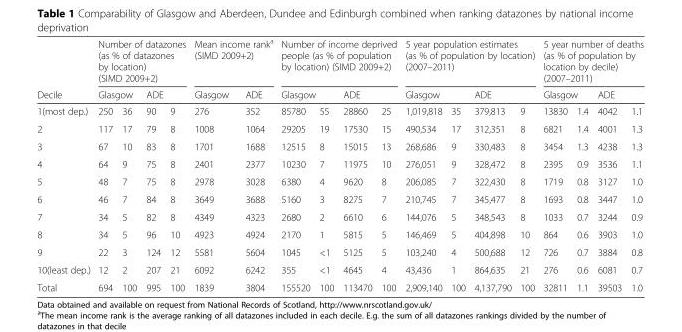table: (36, 36, 642, 292)
table column: (36, 36, 93, 292), (189, 36, 236, 292), (400, 36, 446, 292), (469, 36, 515, 292), (236, 36, 276, 292), (337, 36, 376, 292), (276, 36, 314, 292), (538, 36, 571, 292), (592, 36, 625, 292), (164, 36, 189, 292), (116, 36, 140, 292), (140, 36, 164, 292), (376, 36, 400, 292), (93, 36, 116, 292), (314, 36, 337, 292), (446, 36, 469, 292), (515, 36, 538, 292), (571, 36, 592, 292), (625, 36, 642, 292)
table column header: (36, 36, 642, 119)
table row: (36, 36, 642, 85), (36, 119, 642, 137), (36, 154, 642, 172), (36, 172, 642, 190), (36, 207, 642, 225), (36, 225, 642, 243), (36, 260, 642, 278), (36, 85, 642, 102), (36, 102, 642, 119), (36, 137, 642, 154), (36, 190, 642, 207), (36, 243, 642, 260), (36, 278, 642, 292)
table spanning cell: (400, 36, 538, 85), (276, 36, 400, 85), (538, 36, 642, 85), (36, 36, 93, 119), (93, 36, 189, 85), (189, 36, 276, 85), (189, 85, 236, 119), (236, 85, 276, 119), (400, 85, 469, 102), (469, 85, 538, 102), (337, 85, 400, 102), (276, 85, 337, 102), (538, 85, 592, 102), (592, 85, 642, 102), (140, 85, 189, 102), (93, 85, 140, 102)
